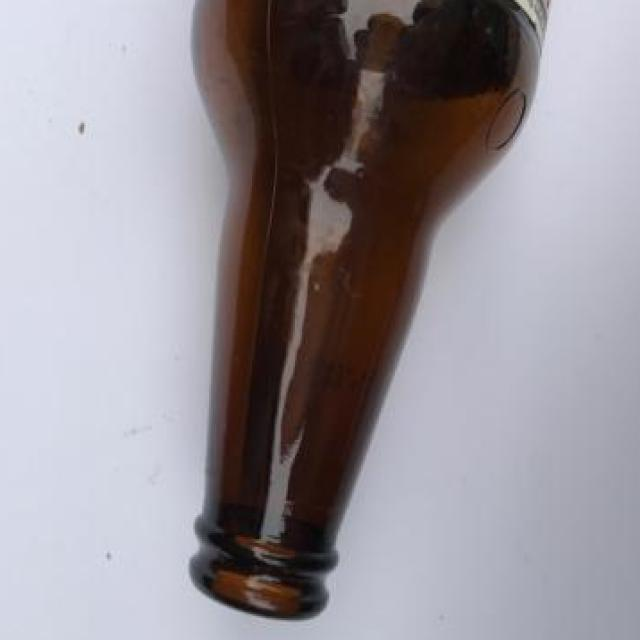organic: (147, 1, 562, 624)
